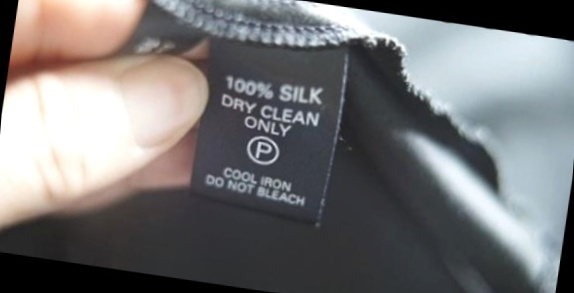dry_clean_any_solvent_except_trichloroethylene: (245, 132, 283, 167)
